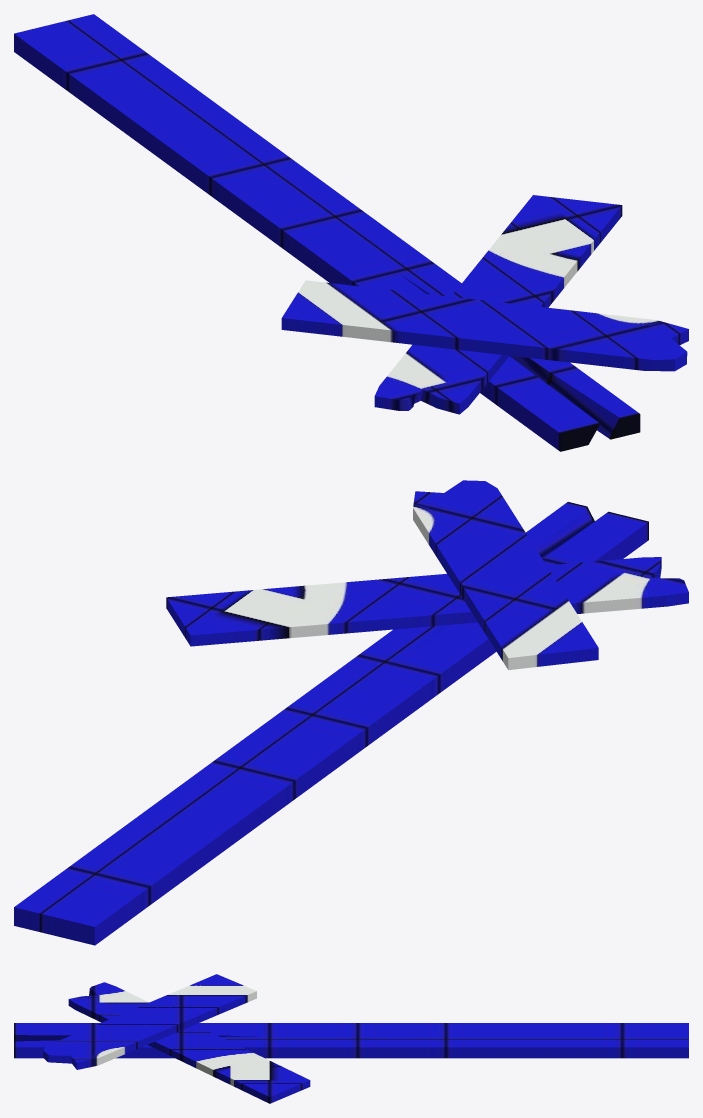
The model's file is railsign03.glb.
3 renders of one model, top to bottom at view 1: azimuth 30°, elevation 25°; view 2: azimuth 150°, elevation 25°; view 3: azimuth 270°, elevation 25°, orthographic. The views are drawn at different scales.
Bounding box in the file's own units: 29.18 × 3.03 × 72.
Materials: 1 (1 with a texture image).
